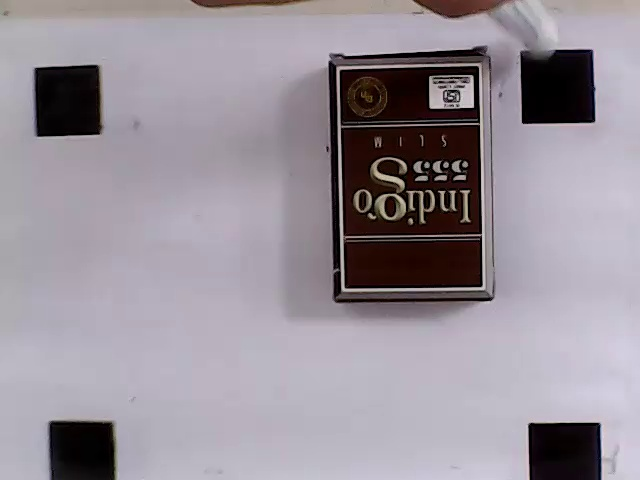BEX: (336, 63, 482, 288)
